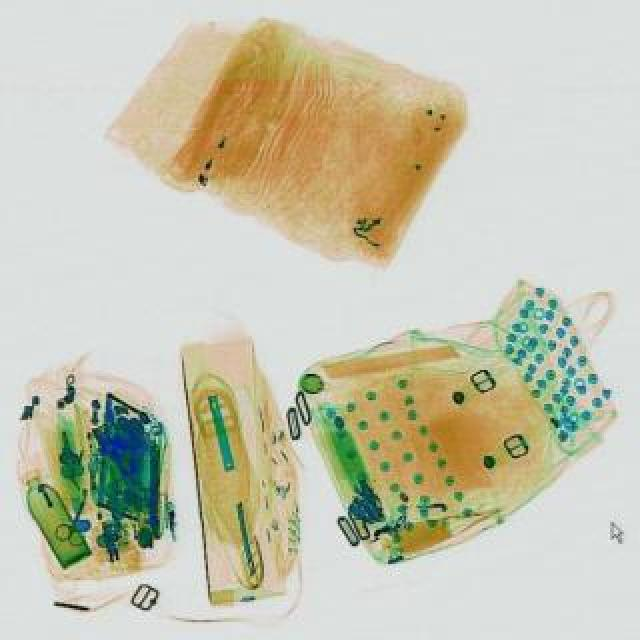pliers: (50, 482, 102, 548)
